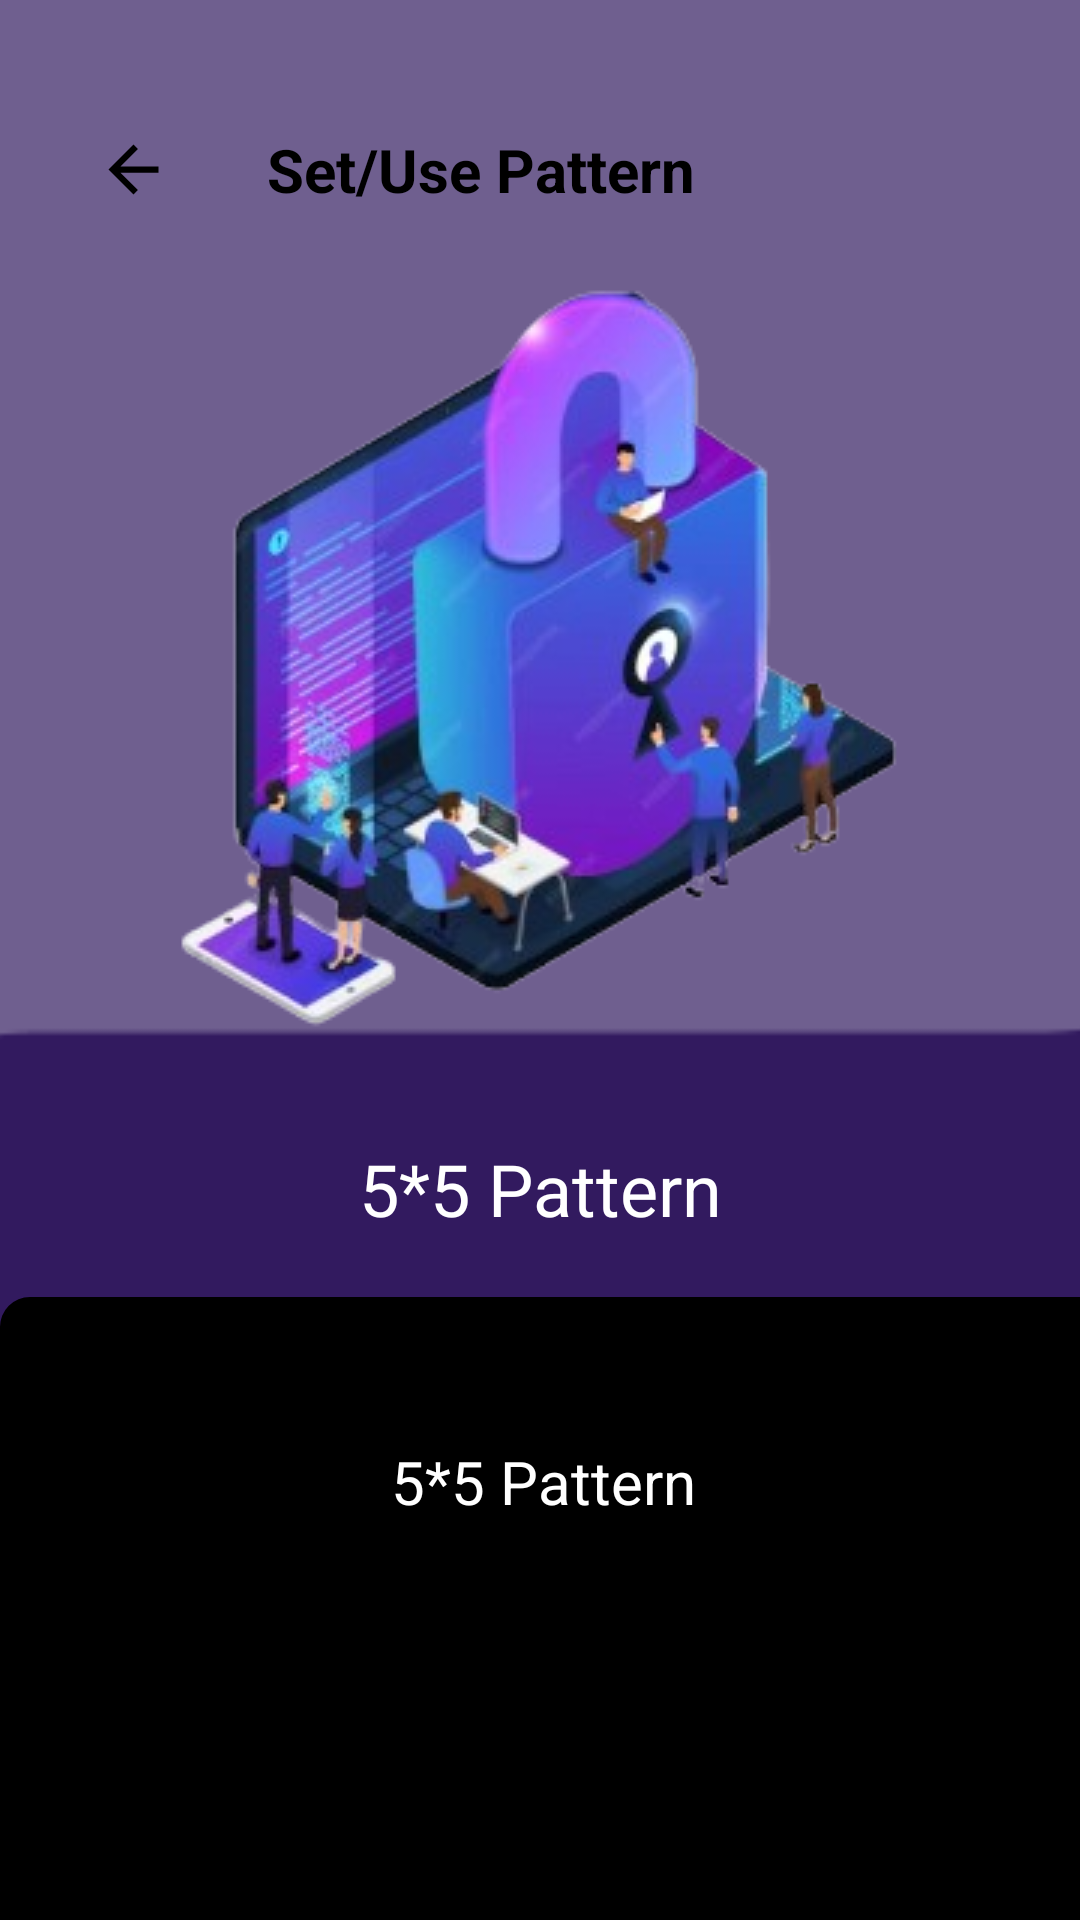

Screen size 1080px x 1920px. Icon name, then its box in pixels as [x1=x1, y1=y1, x2=x2, y2=y2]:
arrow back: [x1=108, y1=144, x2=159, y2=195]
